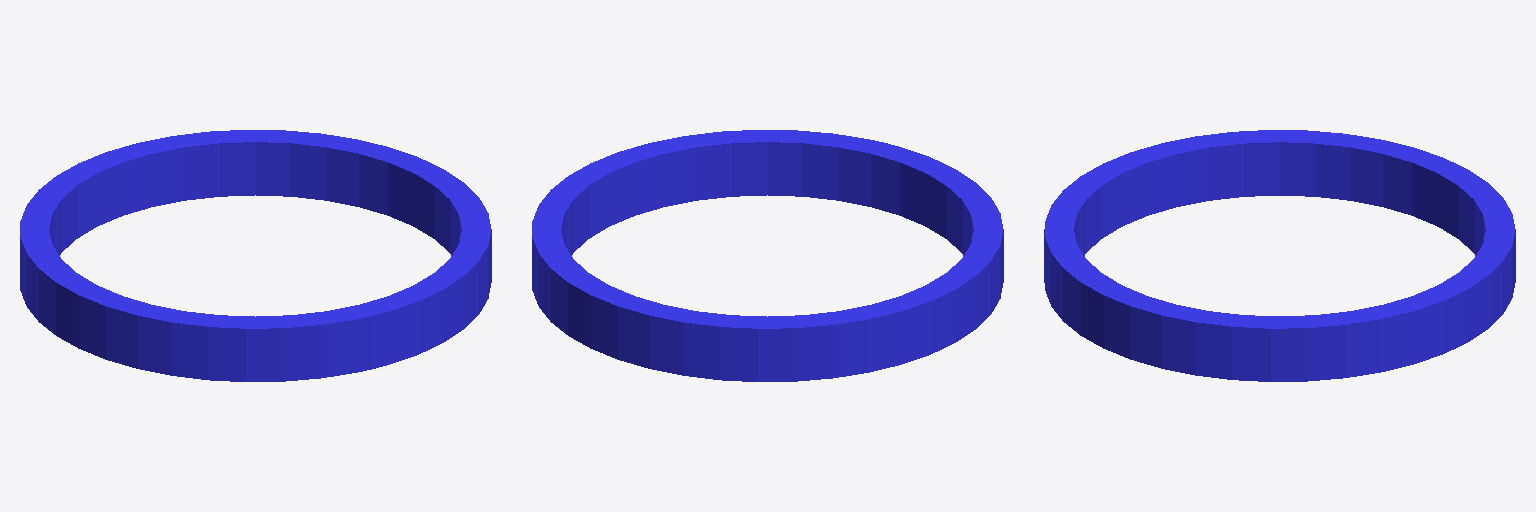
robot.urdf — hole:
<?xml version="1.0" encoding="utf-8"?>
<!-- This URDF was automatically created by SolidWorks to URDF Exporter! Originally created by [author] ([email redacted]) 
     Commit Version: 1.5.1-0-g916b5db  Build Version: 1.5.7152.31018
     For more information, please see http://wiki.ros.org/sw_urdf_exporter -->
<robot
  name="hole">
  <link
    name="hole">
    <inertial>
      <origin
        xyz="0 1.29081515884556E-17 0.005"
        rpy="0 0 0" />
      <mass
        value="500" />
      <inertia
        ixx="8.4185E-06"
        ixy="1.8005E-37"
        ixz="-3.4301E-38"
        iyy="8.4185E-06"
        iyz="5.03466287215225E-22"
        izz="1.6641E-05" />
    </inertial>
    <visual>
      <origin
        xyz="0 0 0"
        rpy="1.5707963267949 0 0" />
      <geometry>
        <mesh
          filename="package://hole/meshes/hole.STL" />
      </geometry>
      <material
        name="">
        <color
          rgba="0.27059 0.27059 1 1" />
        <texture
          filename="package://hole/textures/" />
      </material>
    </visual>
    <collision>
      <origin
        xyz="0 0 0"
        rpy="1.5707963267949 0 0" />
      <geometry>
        <mesh
          filename="package://hole/meshes/hole.STL" />
      </geometry>
    </collision>
  </link>
</robot>

--- Facts derived from the render (not from the file) ---
3 views of the same robot in one strip: view 1: azimuth 30°, elevation 25°; view 2: azimuth 150°, elevation 25°; view 3: azimuth 270°, elevation 25° (orthographic).
Robot: hole — 1 links, 0 joints (none); root link hole; default pose: every joint at zero.
Visible links, largest first — view 1: hole; view 2: hole; view 3: hole.
Boxes of the visible links, left/top/right/bottom form: hole: left=20, top=130, right=491, bottom=381; hole: left=532, top=130, right=1003, bottom=381; hole: left=1044, top=130, right=1515, bottom=381.
Size in the robot's own frame: 0.0799 by 0.08 by 0.01 metres.
1 mesh visuals loaded from 1 distinct referenced files (1 binary STL).